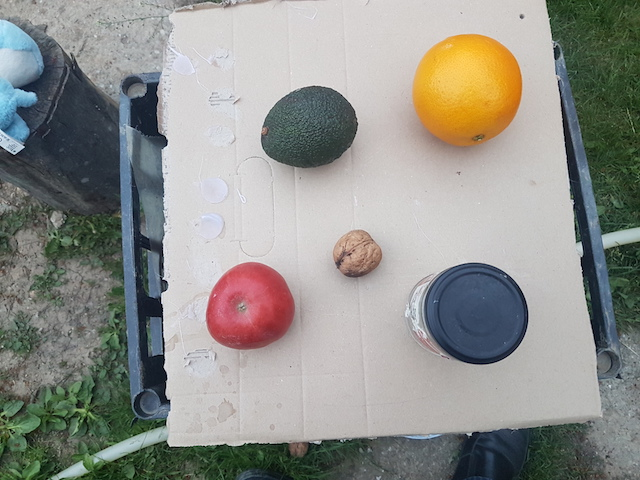apple: (204, 259, 297, 352)
avocado: (256, 83, 362, 171)
nut: (330, 225, 382, 278)
orange: (412, 30, 528, 150)
recipient: (421, 261, 536, 366)
